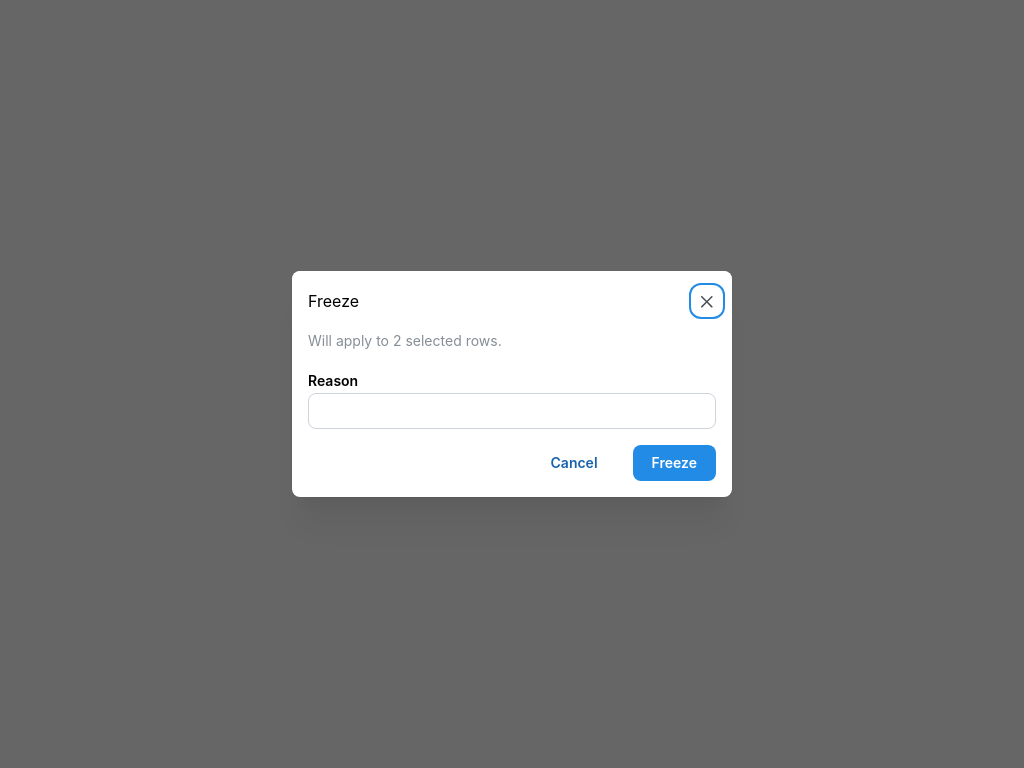
Test: what ActionModal does with the answer › keeps the modal open with the reason when the action fails
The image size is (1024, 768).
Type "fraud" into the field labelled "Reason". click: (512, 410)
box: x1=308 y1=392 x2=716 y2=428
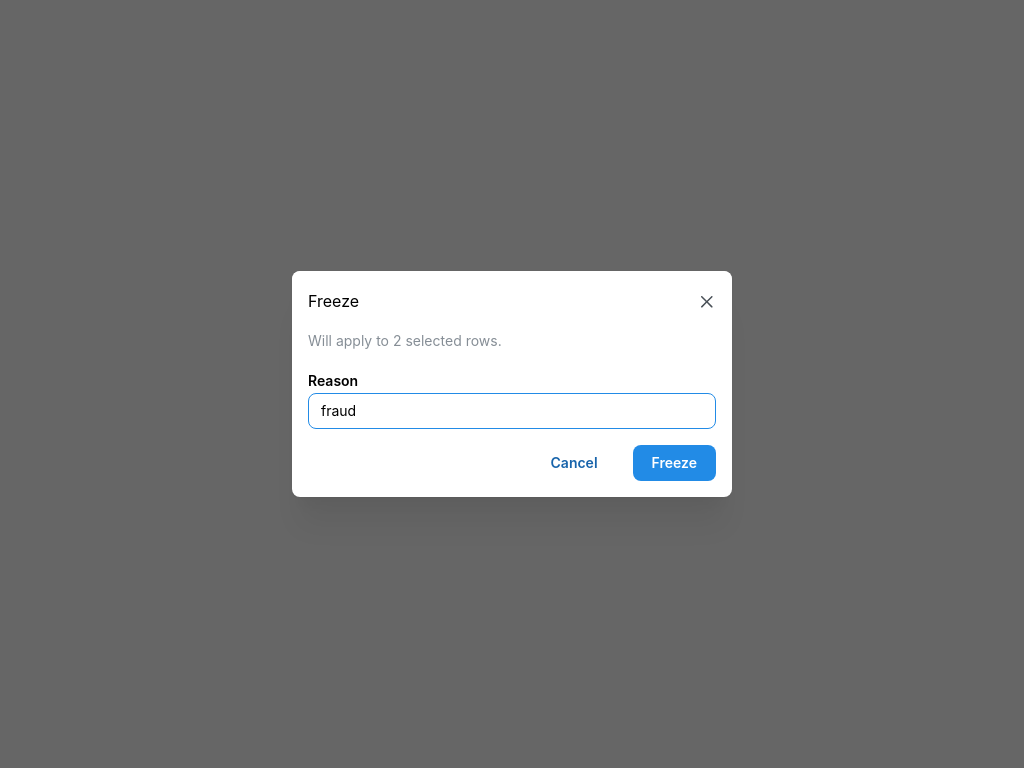
Click the button "Freeze". click: (674, 462)
box: x1=633 y1=444 x2=716 y2=480
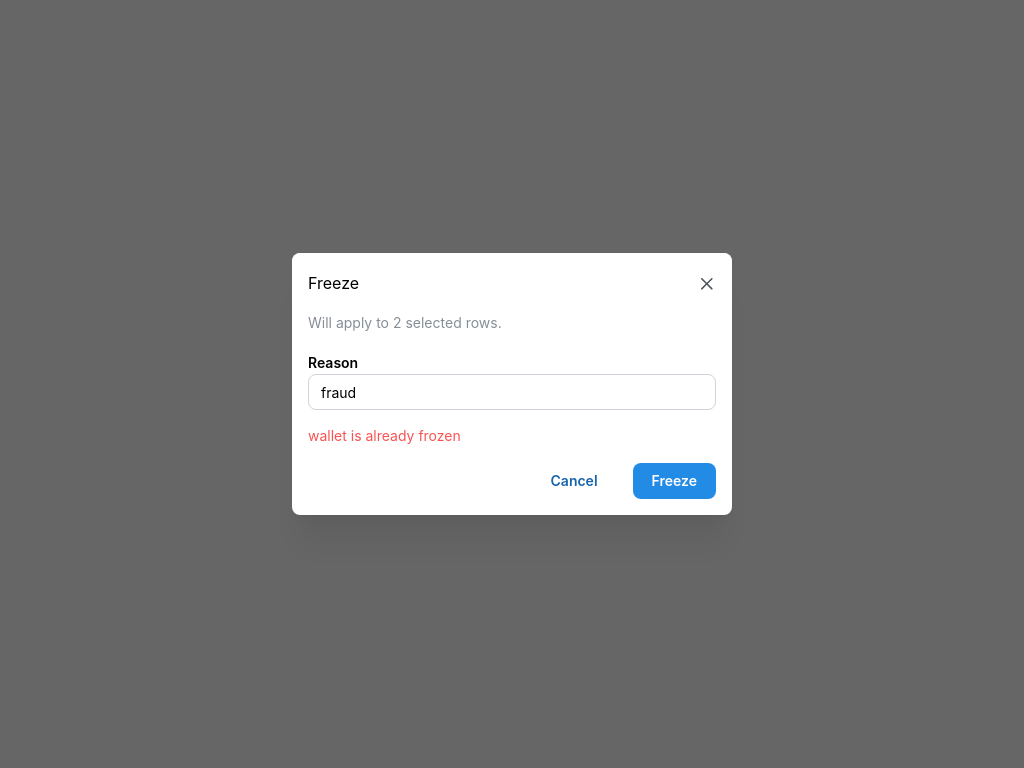
Expected: the text "wallet is already frozen" is shown, x1=308 y1=427 x2=461 y2=444
